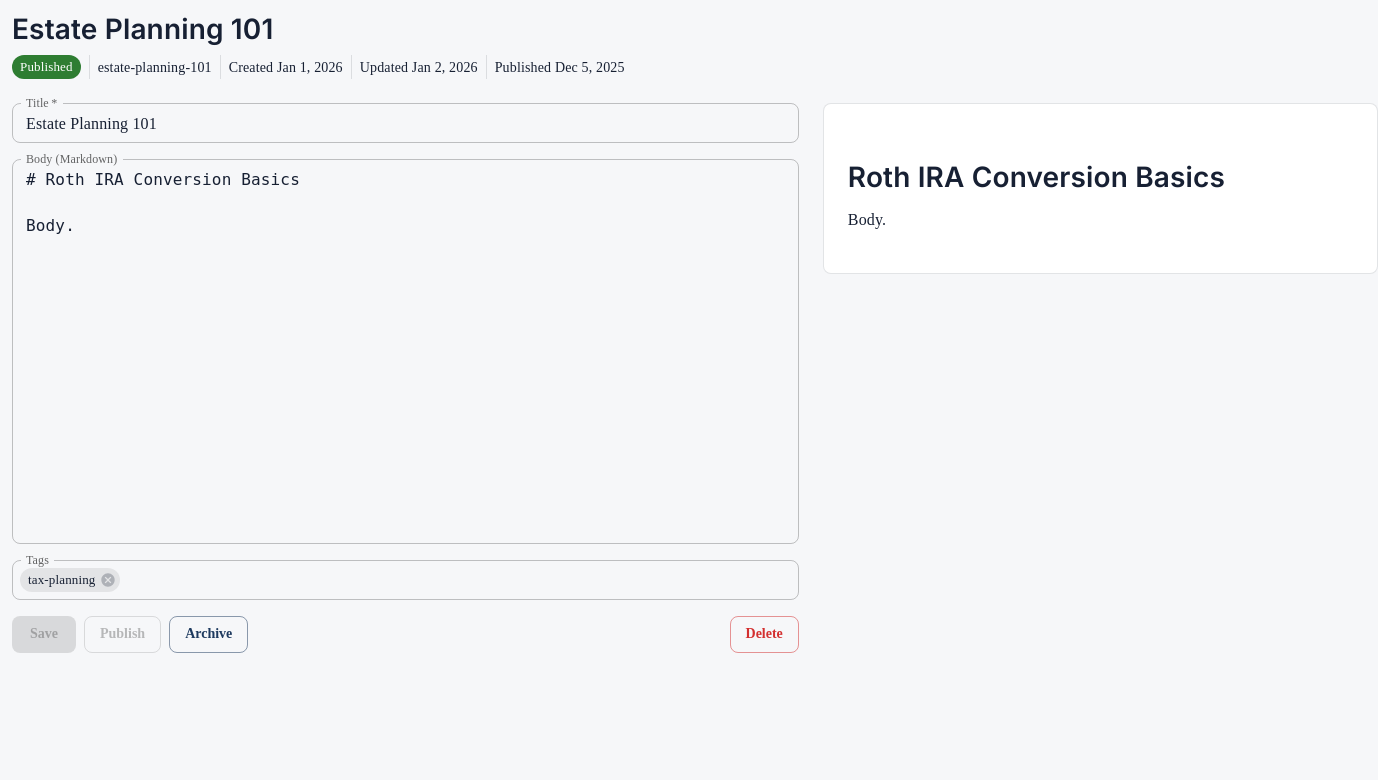
Test: ContentEditorScreen mutation feedback (global snackbar) › a successful Archive shows an "Archived" notice
The width and height of the screenshot is (1378, 780).
What coordinates should you click on to do the following:
click the button "Archive"
I would click on:
 (209, 634)
Its box is [169, 616, 248, 652].
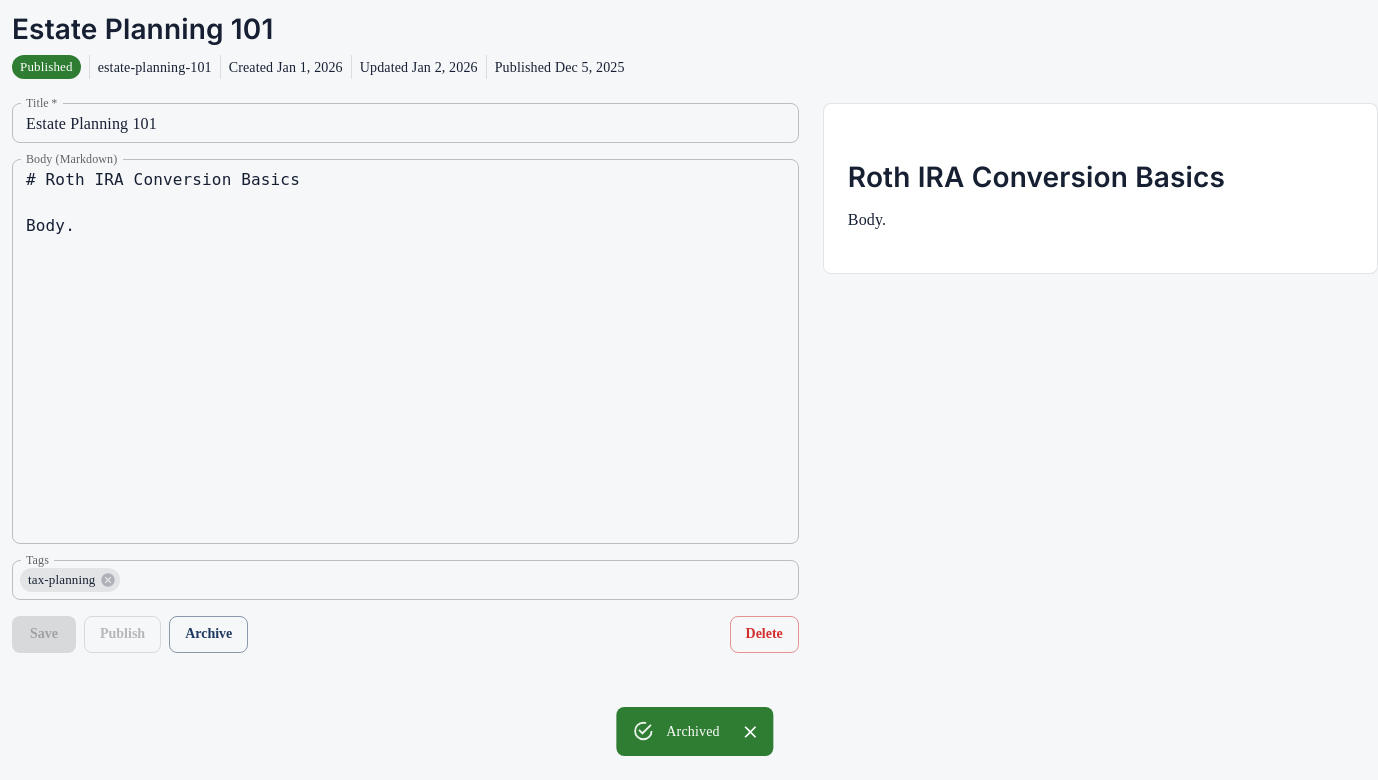
Expected: the message reads "Archived", [666, 724, 720, 739]
